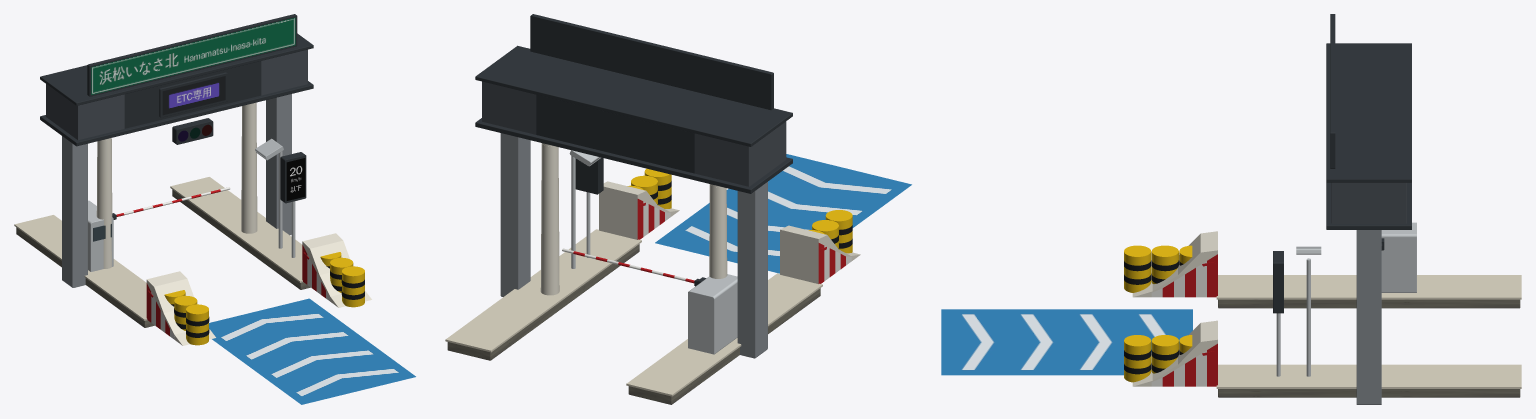
3 renders of one model, left to right at view 1: azimuth 30°, elevation 25°; view 2: azimuth 150°, elevation 25°; view 3: azimuth 270°, elevation 25°, orthographic. The views are drawn at different scales.
Parts seen in each view (by area): view 1: opt_canopy_flat, opt_blue_on, jp-toll-lane, opt_name_on, opt_canopy_arch, opt_head_drum (×2), opt_head_fiber (×2), lamp_b_etc, opt_head_cushion (×2), opt_speed_on, lamp_spd, opt_antenna_island (+2 smaller); view 2: opt_canopy_flat, jp-toll-lane, opt_canopy_arch, opt_blue_on, opt_name_on, opt_head_fiber (×2), opt_head_drum (×2), opt_head_cushion (×2), opt_speed_on, opt_antenna_island, toll_bar; view 3: opt_canopy_flat, jp-toll-lane, opt_blue_on, opt_head_drum (×2), opt_head_cushion (×2), opt_head_fiber (×2), opt_speed_on, opt_name_on, opt_antenna_island.
Boxes of the visible parts, box(x1,y1,x2,y2) form: opt_canopy_flat: box(40, 33, 313, 287); opt_blue_on: box(209, 298, 415, 404); jp-toll-lane: box(14, 118, 310, 327); opt_name_on: box(87, 14, 297, 96); opt_canopy_arch: box(96, 61, 261, 268); opt_head_drum (×2): box(164, 252, 364, 345); opt_head_fiber (×2): box(146, 233, 371, 345); lamp_b_etc: box(162, 76, 225, 115); opt_head_cushion (×2): box(146, 245, 330, 339); opt_speed_on: box(280, 152, 306, 257); lamp_spd: box(286, 158, 305, 200); opt_antenna_island: box(255, 138, 283, 248); opt_canopy_flat: box(475, 45, 792, 358); jp-toll-lane: box(445, 229, 822, 404); opt_canopy_arch: box(536, 95, 727, 295); opt_blue_on: box(655, 154, 911, 273); opt_name_on: box(530, 14, 773, 109); opt_head_fiber (×2): box(599, 181, 860, 283); opt_head_drum (×2): box(627, 168, 852, 253); opt_head_cushion (×2): box(637, 199, 851, 283); opt_speed_on: box(575, 157, 603, 257); opt_antenna_island: box(569, 150, 600, 268); toll_bar: box(562, 248, 699, 286); opt_canopy_flat: box(1326, 43, 1411, 404); jp-toll-lane: box(1216, 222, 1521, 397); opt_blue_on: box(941, 309, 1192, 375); opt_head_drum (×2): box(1124, 245, 1192, 382); opt_head_cushion (×2): box(1151, 254, 1217, 386); opt_head_fiber (×2): box(1132, 231, 1217, 386); opt_speed_on: box(1273, 251, 1283, 376); opt_name_on: box(1330, 14, 1335, 168); opt_antenna_island: box(1296, 246, 1321, 376).
Size of the model in its own units: 6.4 by 5.9 by 11.53.
Materials: 22 (8 with a texture image).
